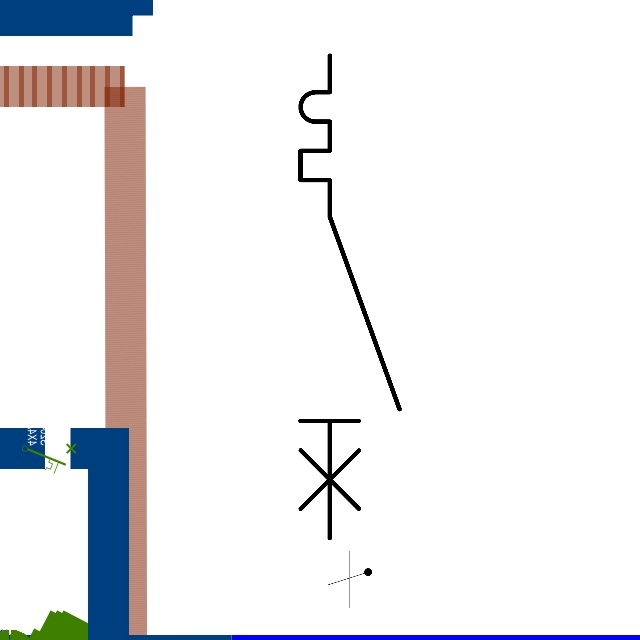interruptor_termomagnetico: (288, 43, 412, 550)
